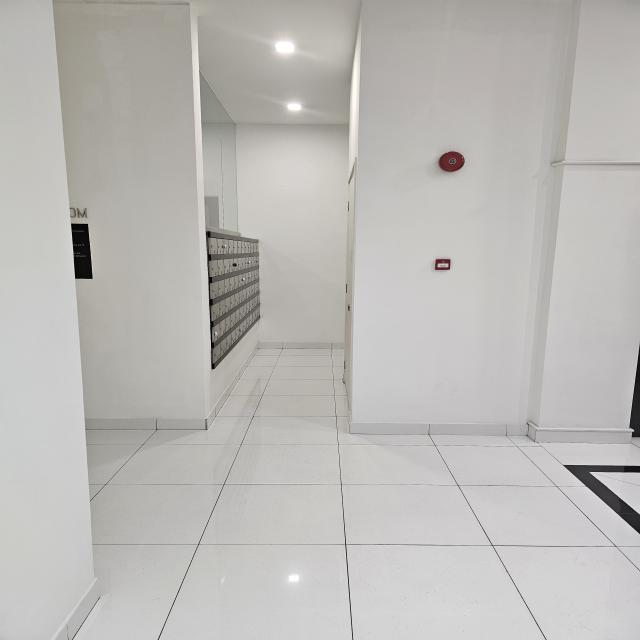footpath: (135, 433, 640, 640), (244, 342, 335, 426)
